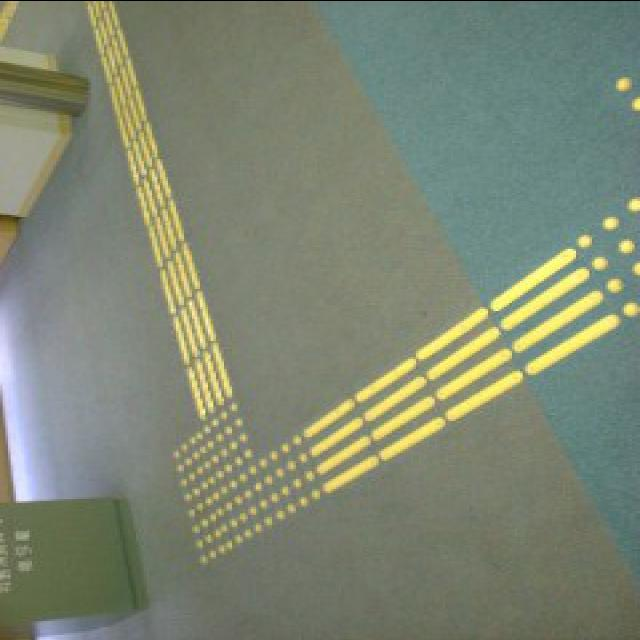tactile-guide-path: (301, 248, 619, 492), (88, 2, 238, 414), (170, 402, 322, 562), (576, 192, 638, 318)
